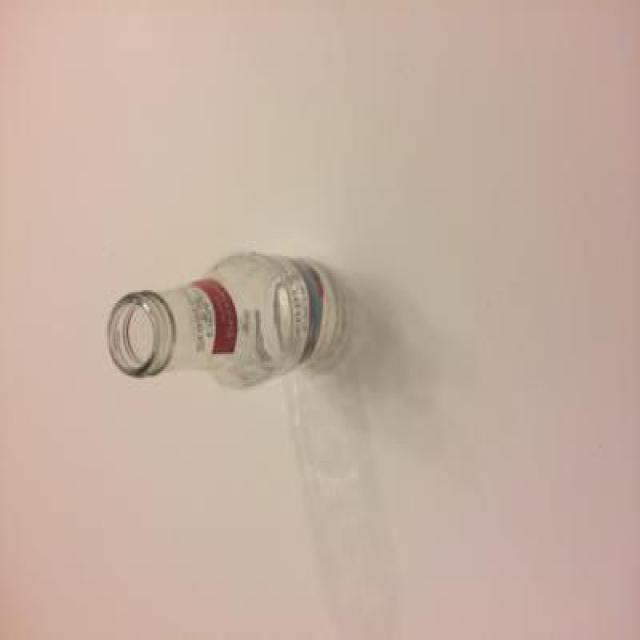glass: (95, 247, 349, 398)
